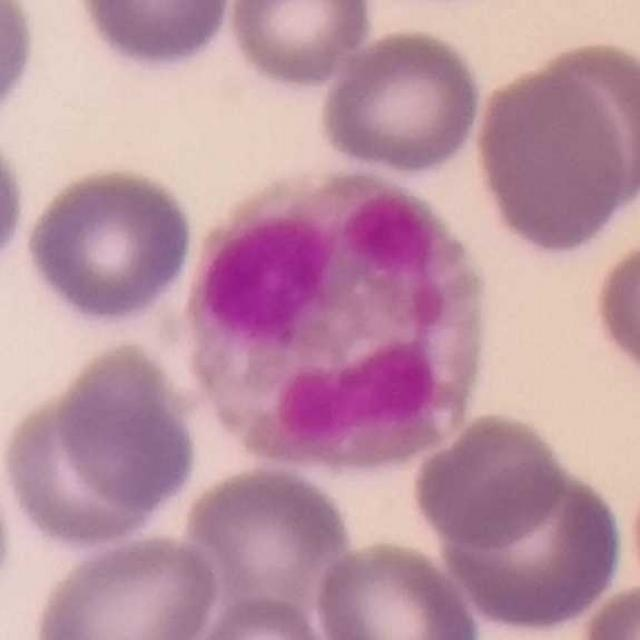eosino: (183, 162, 490, 474)
